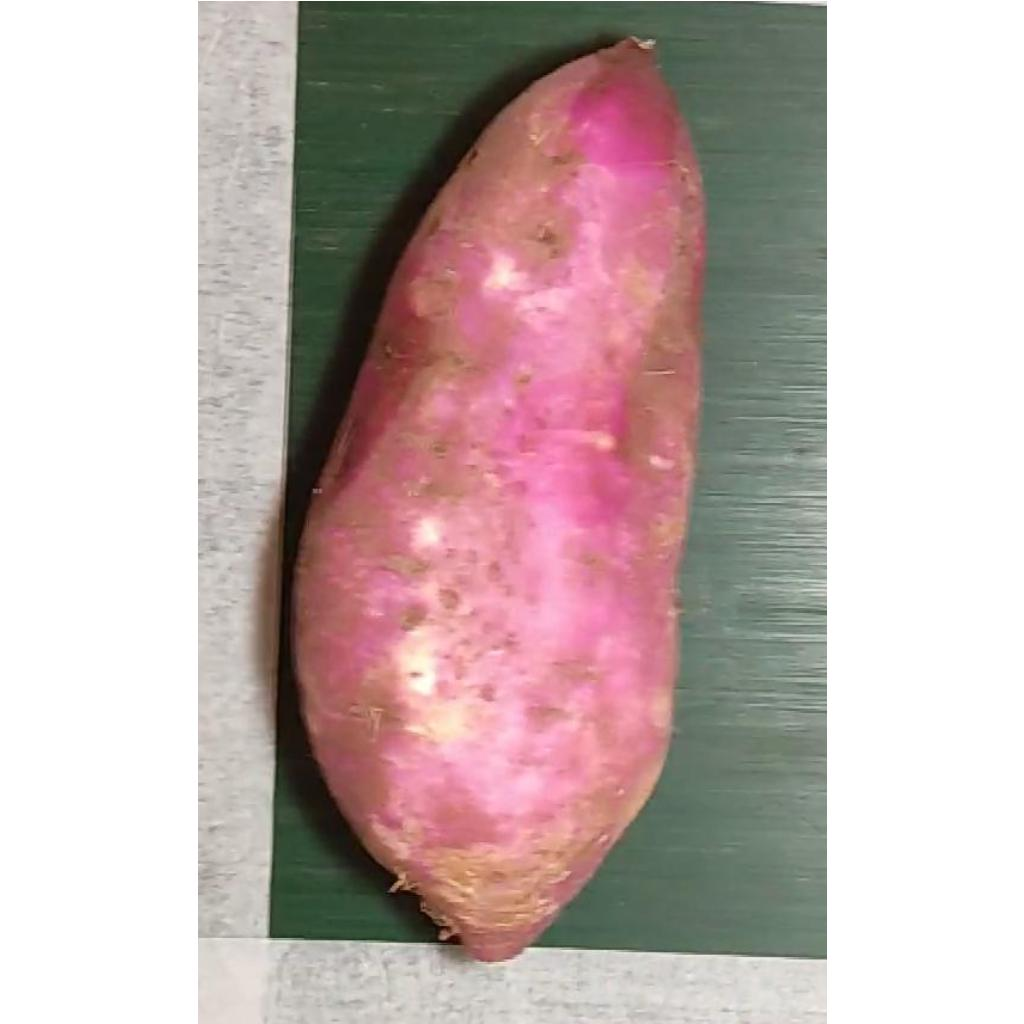Sweet Potato: (290, 36, 708, 959)
